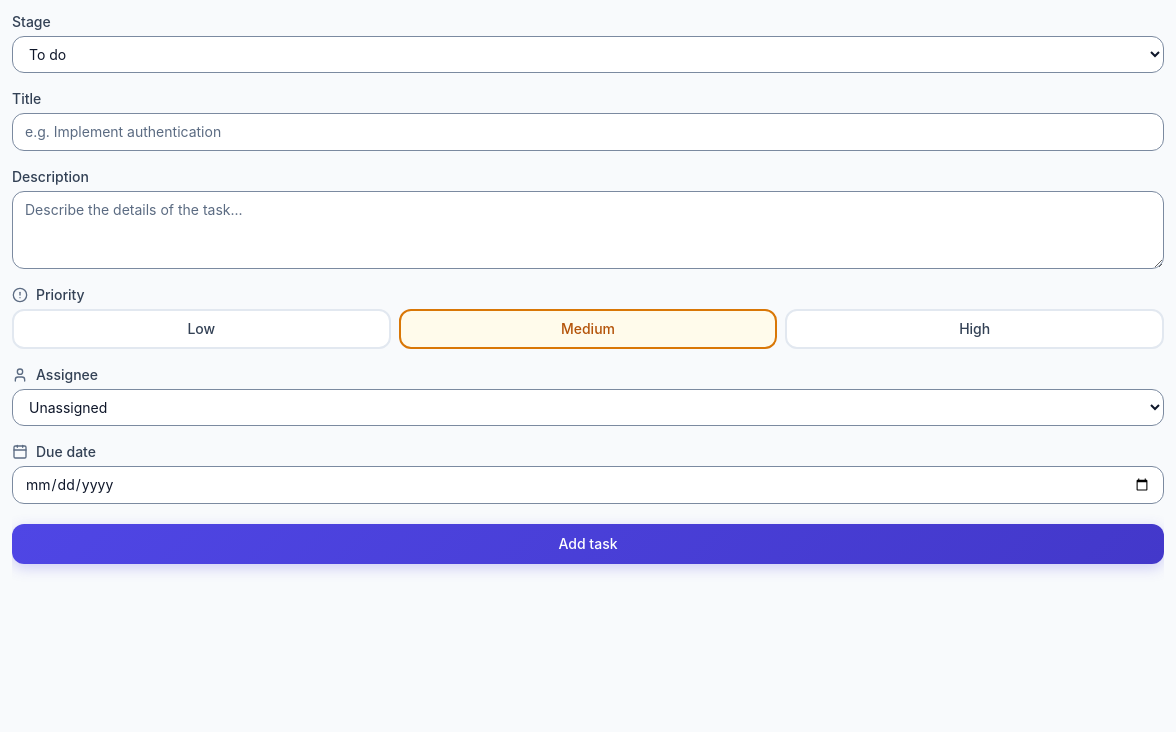
Test case: CreateTaskForm › lets the visitor change the priority back and forth, and shows a server error under the group
Click the radio button labelled "Low": [201, 329] box [12,309,391,349]
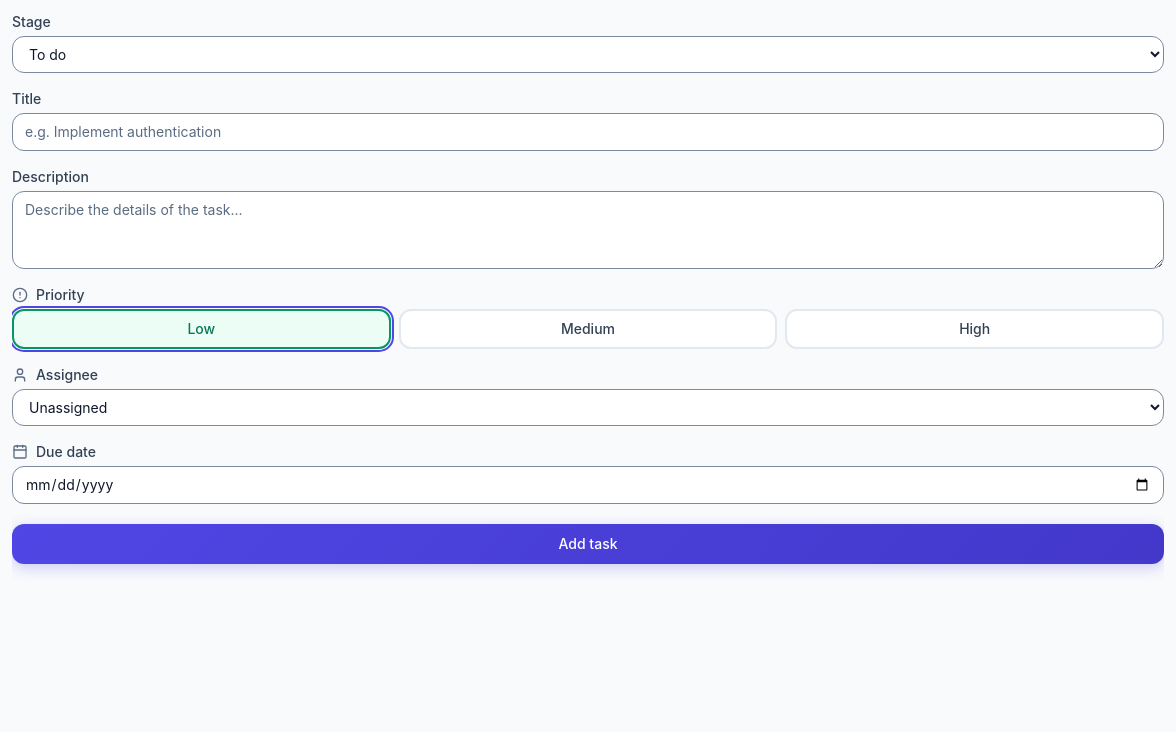
Check: the radio button labelled "Low" is checked, box [12,309,391,349]
Check: the radio button labelled "Medium" is not checked, box [399,309,777,349]
In the field labelled "Title": [588, 132] box [12,113,1164,151], type "Tidy up"
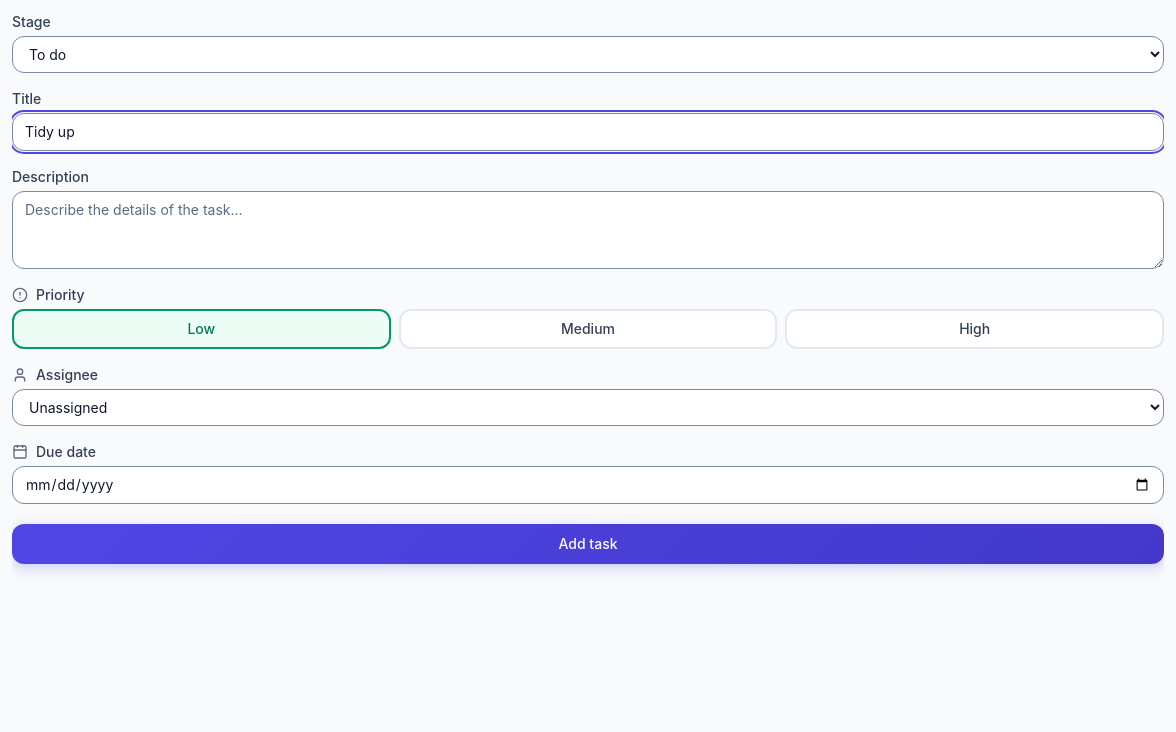
Click the button "Add task": [588, 544] box [12,524,1164,564]
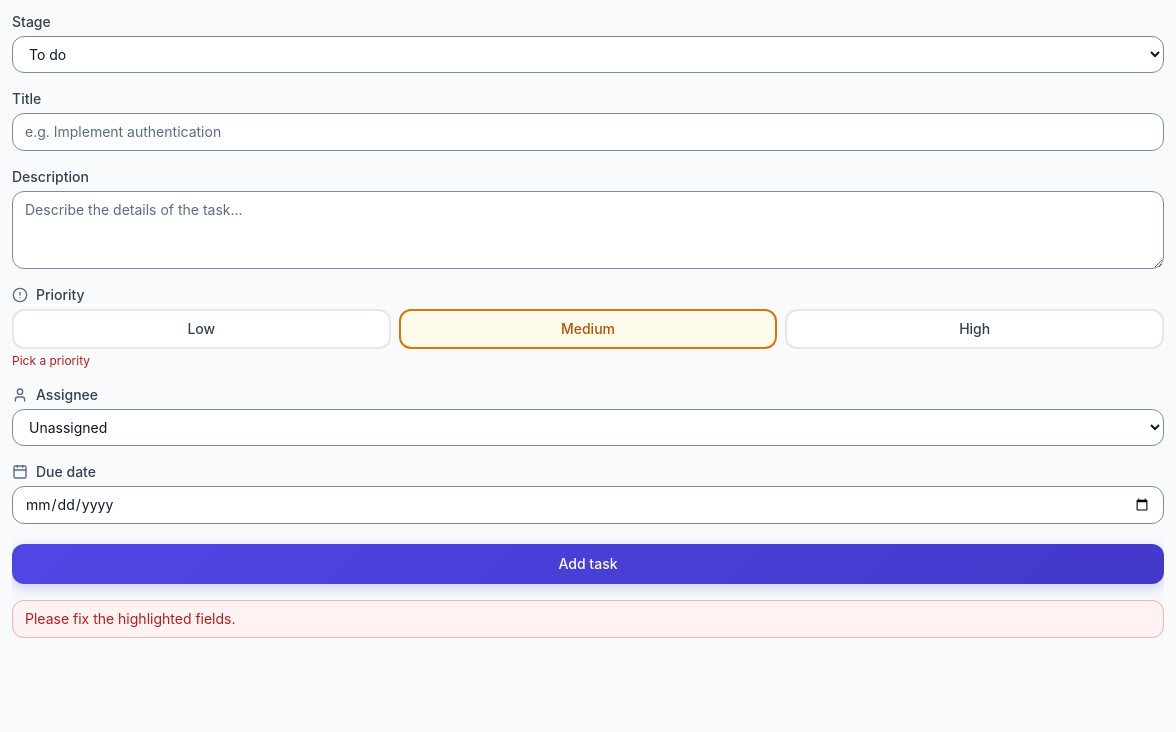
Check: the text "Pick a priority" is shown, box [12,353,90,368]
